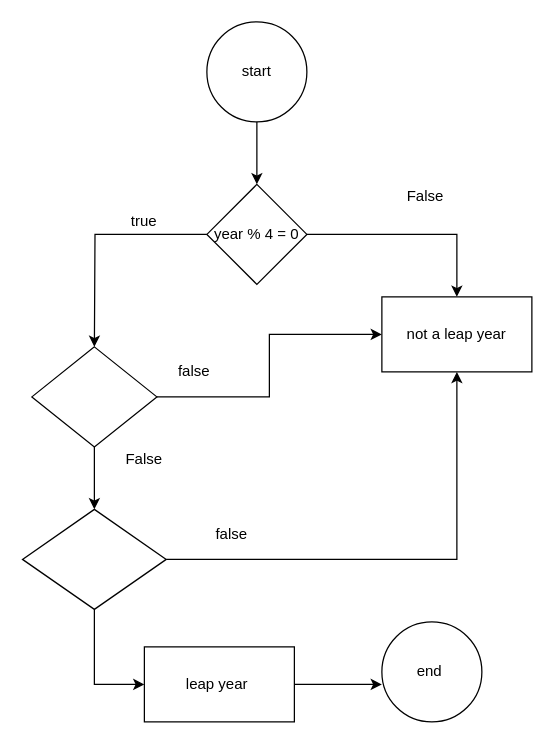
This 554x744 diagram has some shape labels left out. The shapes that lost their labels are listed below. From the top down, each one's centre as x and y in pixels, then its label:
the point at 94,396: year % 100 = 0
the point at 93,558: year % 400 = 0
